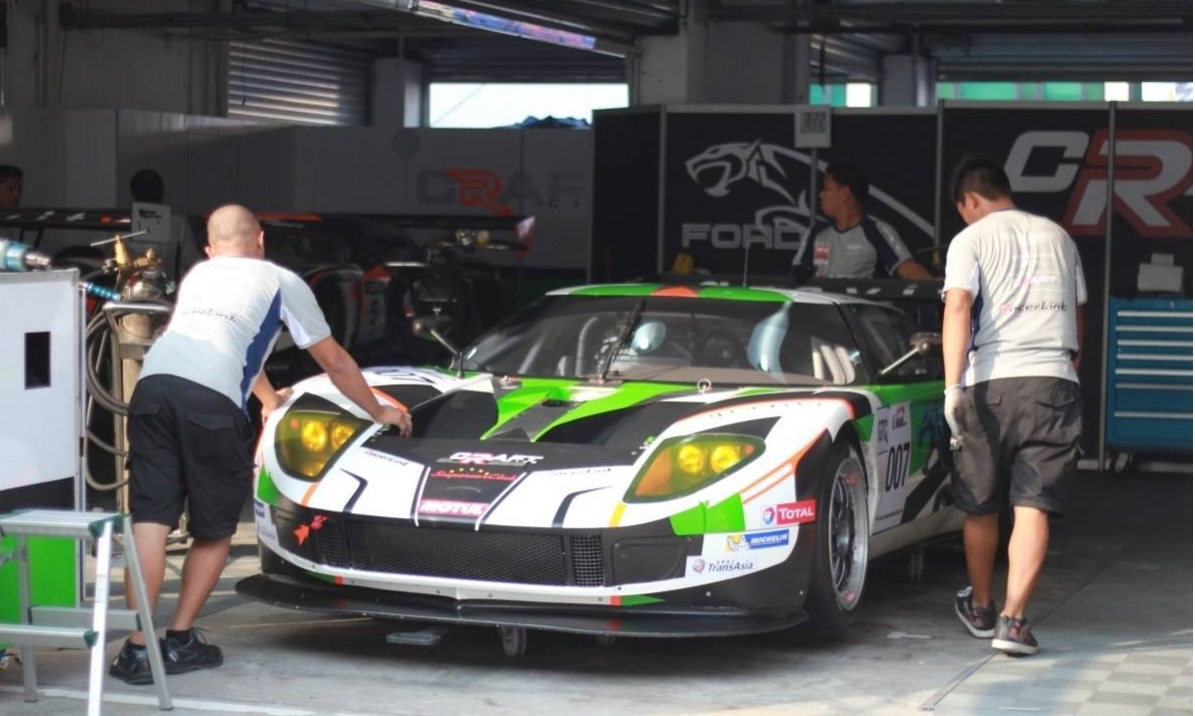racing car: (258, 267, 970, 624)
